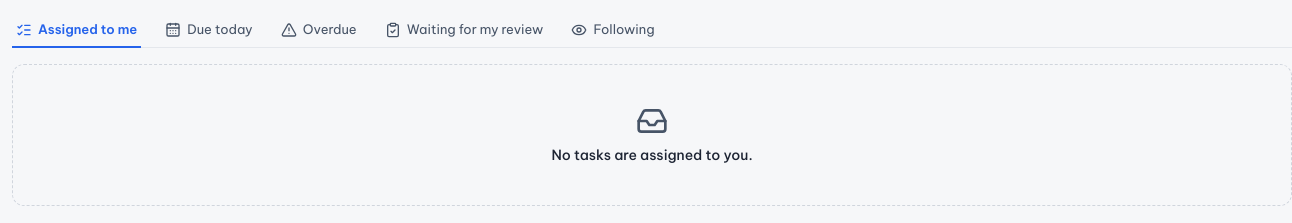
MyTasksScreen › has a message for each empty list
This screenshot has width=1292, height=223.
Expected: the text "No tasks are assigned to you." is shown, [551, 145, 753, 165]
Step 1. Click the tab "Due today" → (209, 30), box [161, 13, 257, 48]
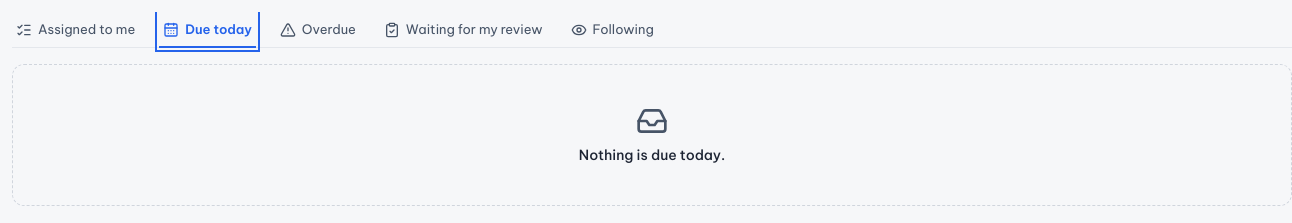
Result: the text "Nothing is due today." is shown at [579, 145, 725, 165]
